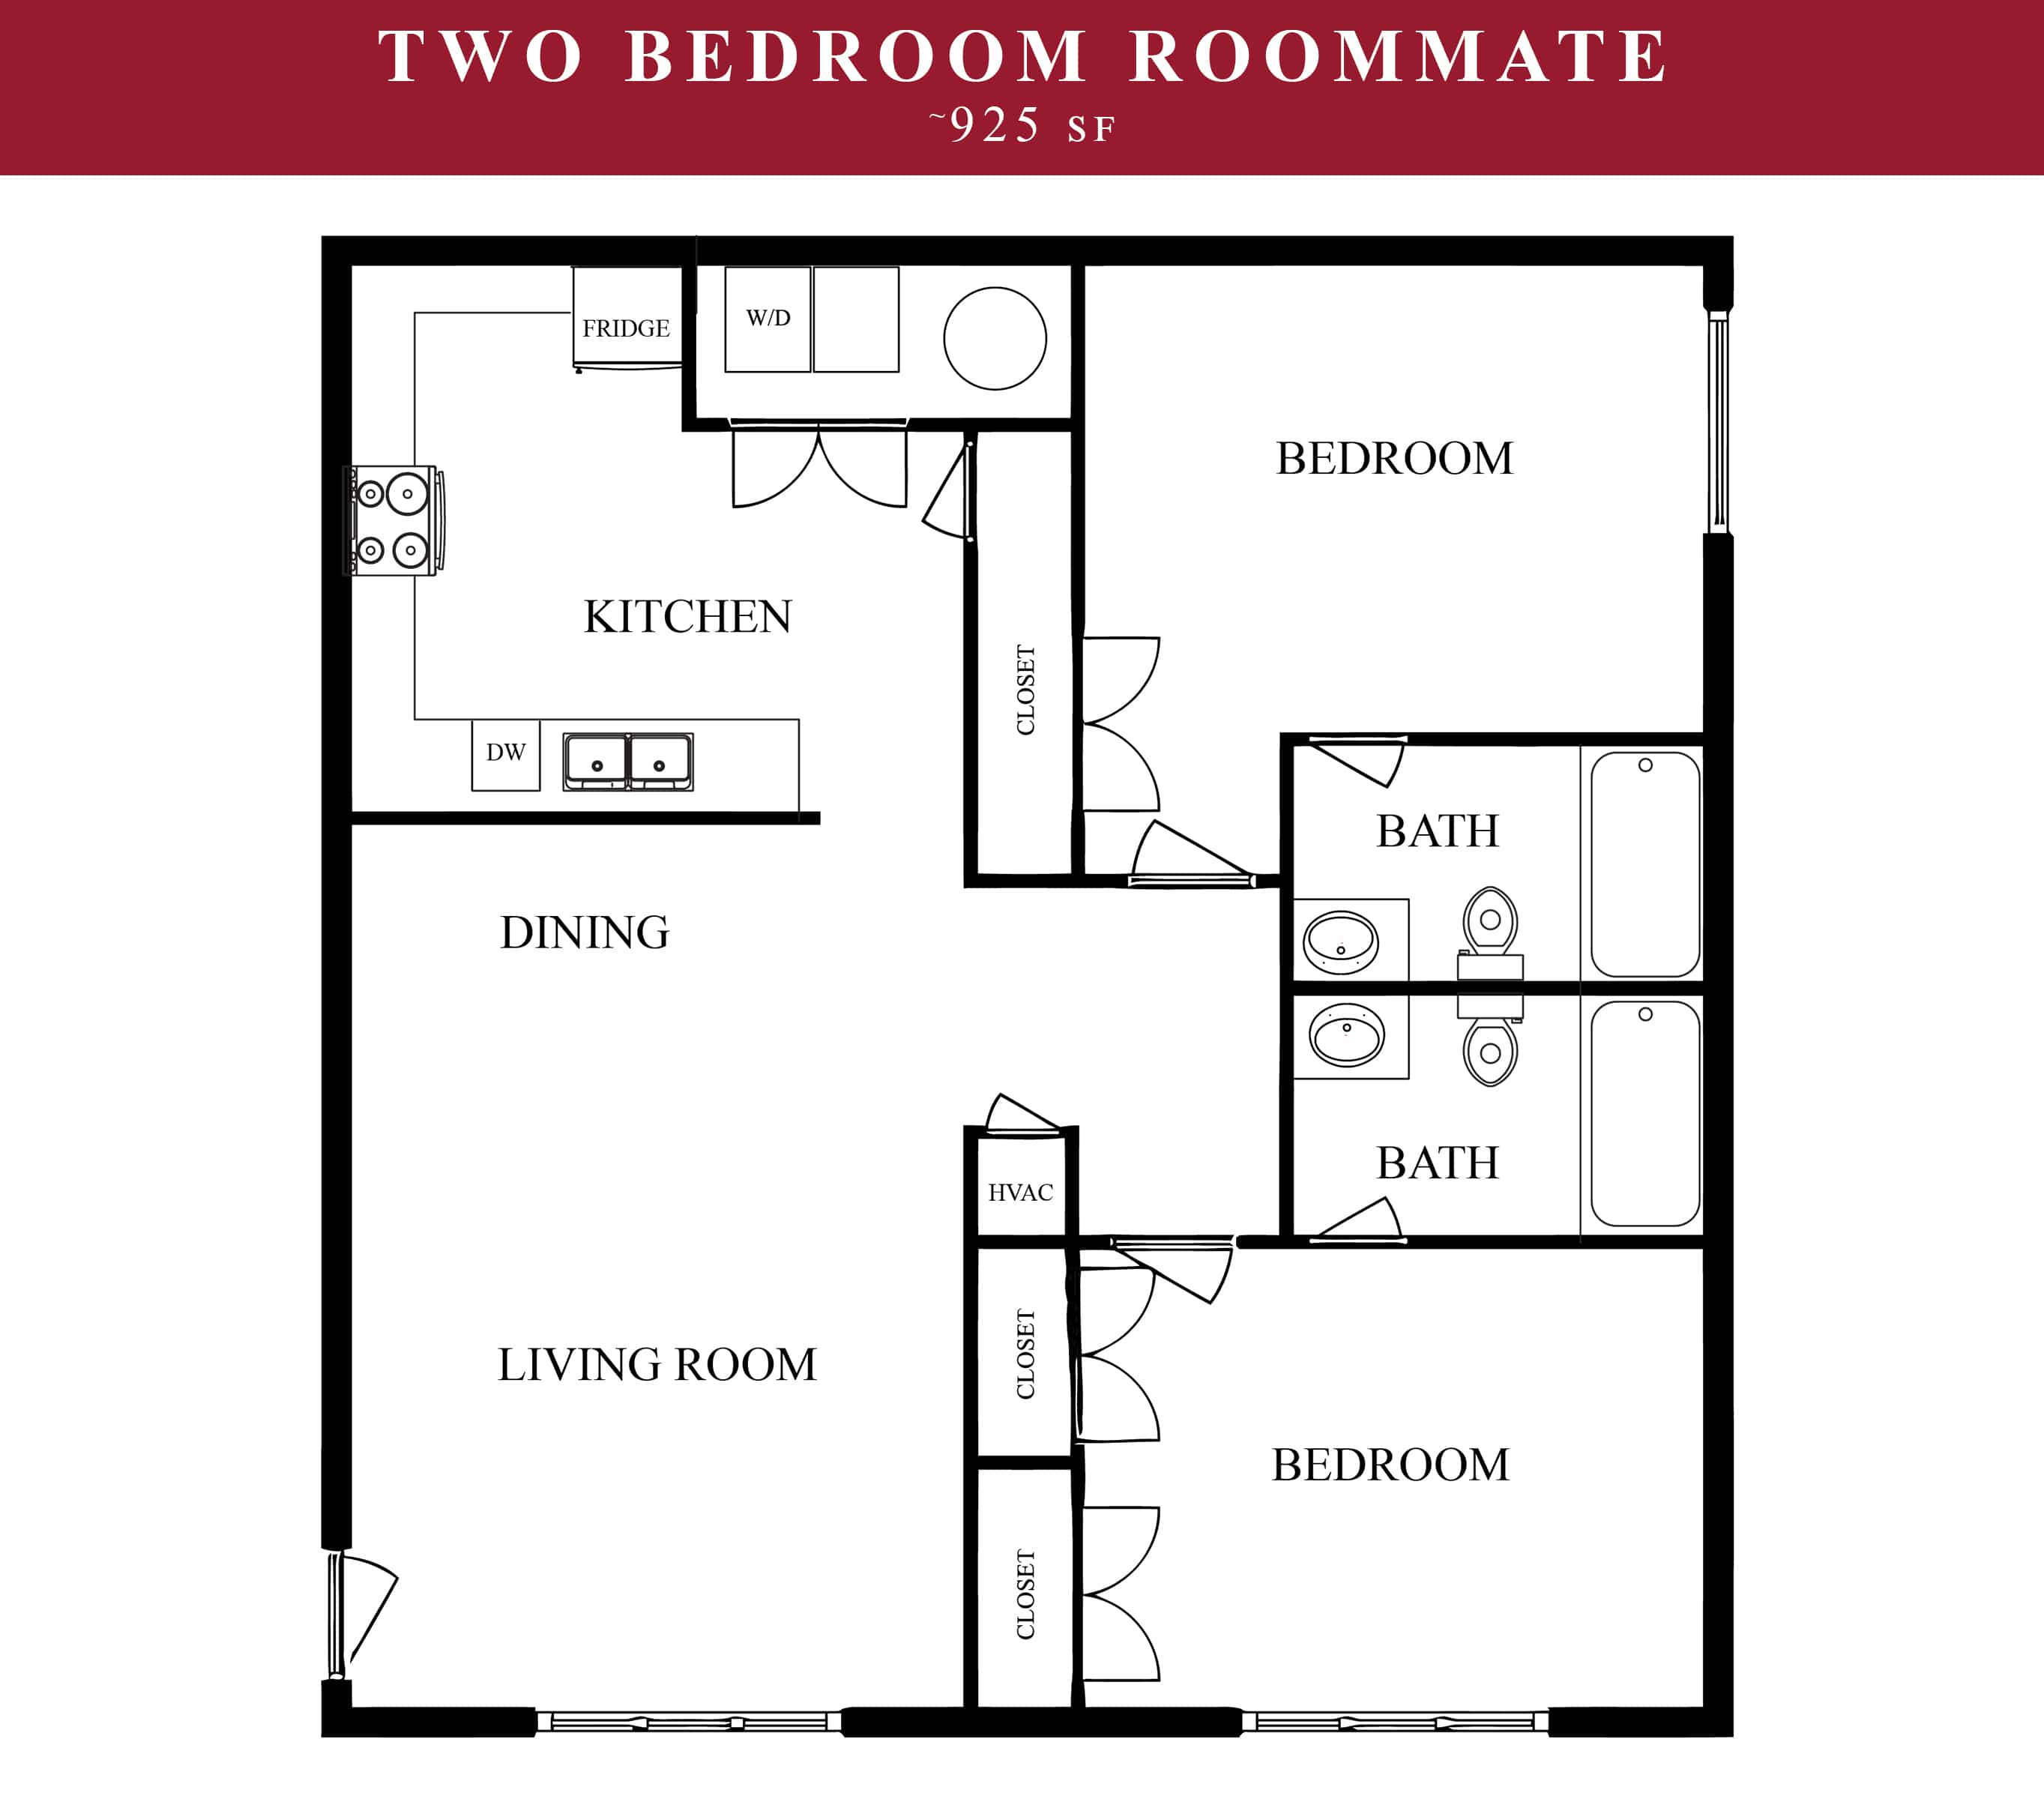door: (1085, 626, 1189, 824), (1071, 1498, 1170, 1688), (718, 429, 919, 513), (1085, 1262, 1163, 1450), (349, 1549, 447, 1656), (1128, 820, 1243, 880), (916, 435, 970, 542), (1317, 1194, 1425, 1236), (1170, 1253, 1238, 1307)
window: (539, 1707, 843, 1736), (1712, 311, 1733, 528), (1248, 1717, 1542, 1728)
